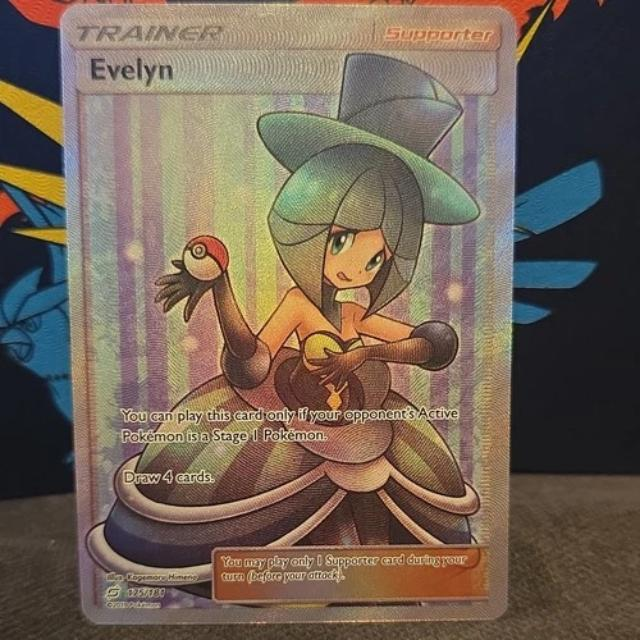Card: (50, 2, 522, 630)
Name: (82, 47, 183, 94)
